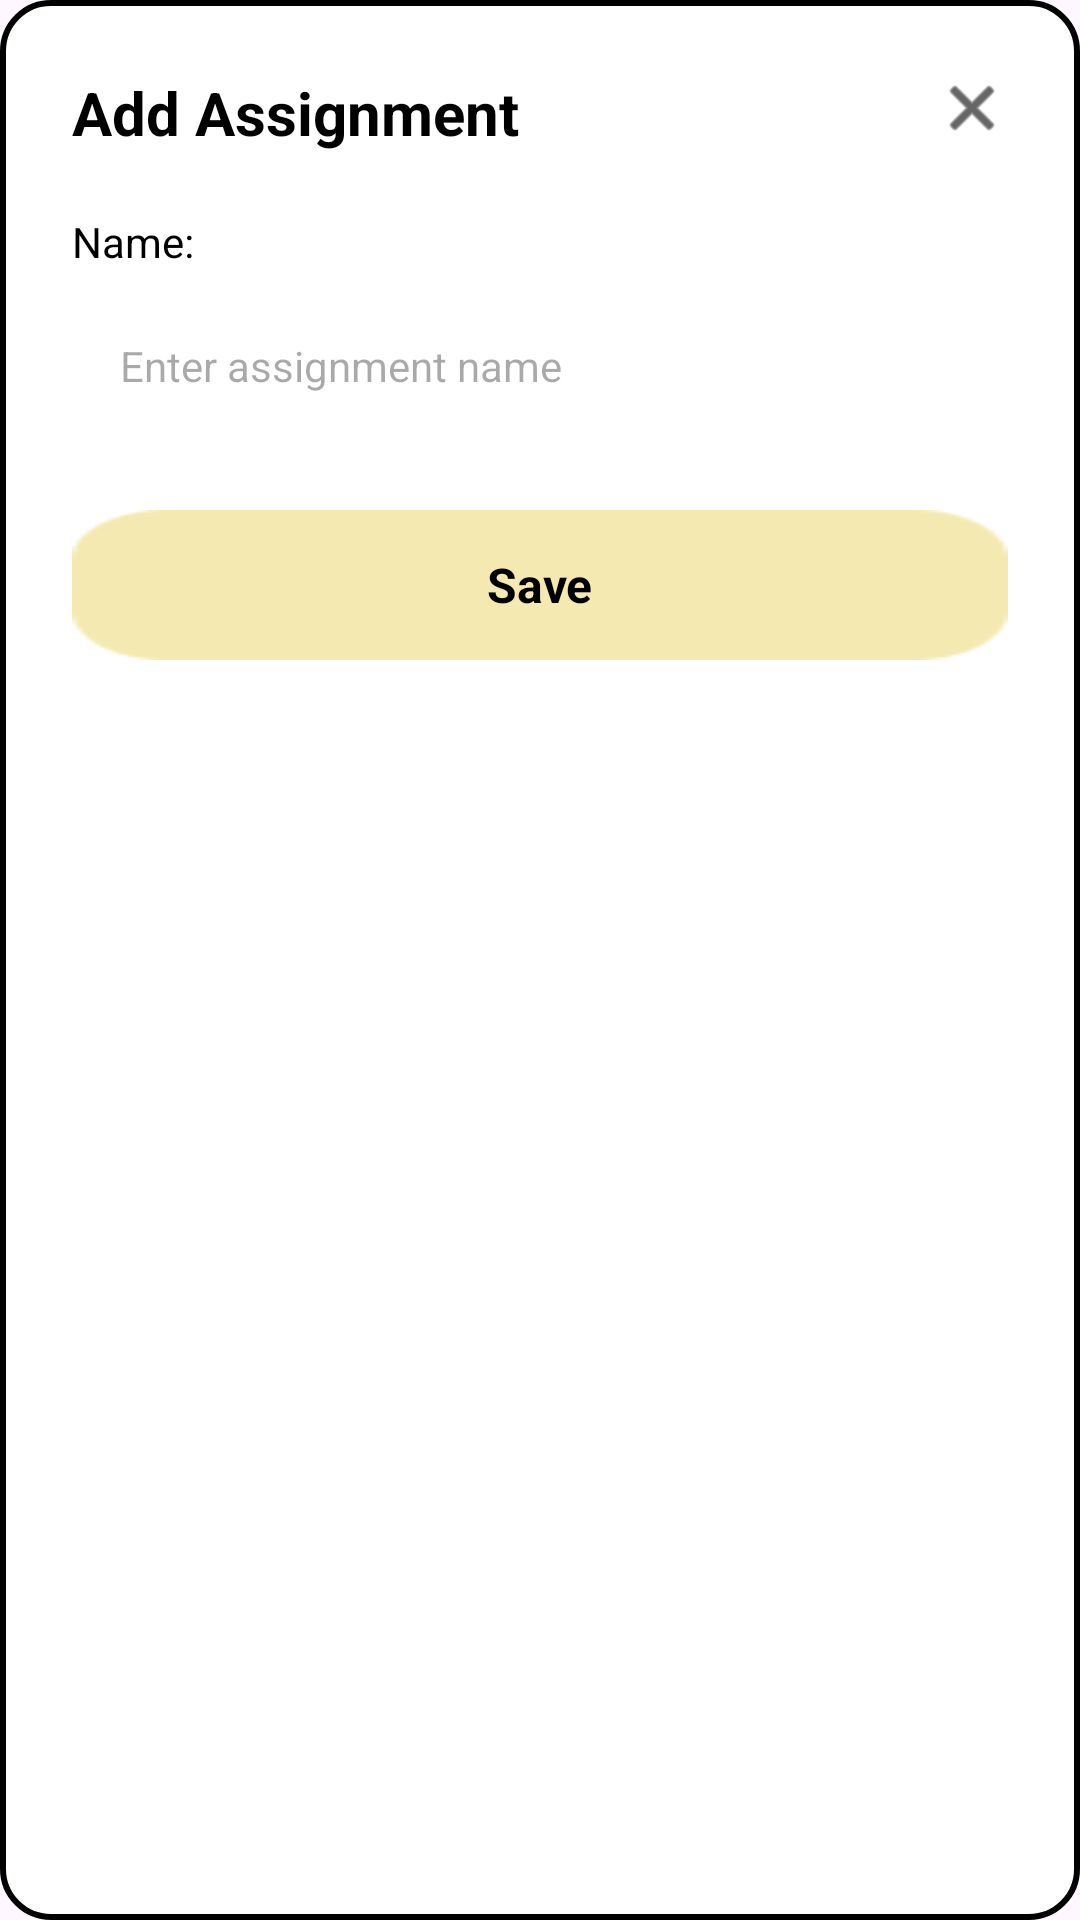

Icon bounding boxes for this 1080w x 1920h phone screenshot, format rect(x1, y1, x2, y2):
Close: rect(949, 85, 995, 131)
